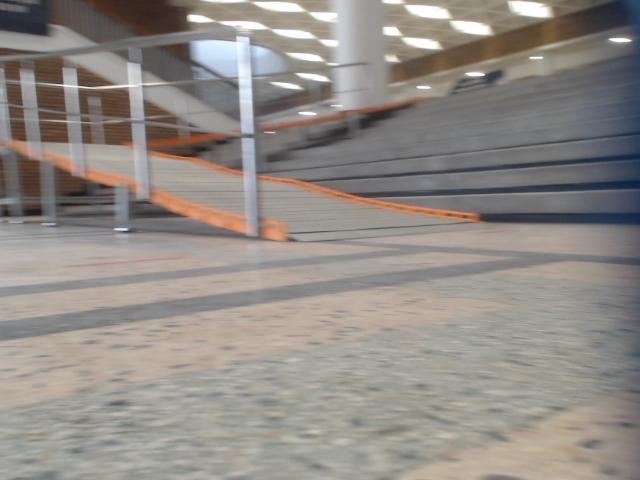rampUp: (260, 178, 476, 239), (149, 152, 245, 232), (85, 144, 134, 189), (39, 143, 70, 171)
ramps-railing: (0, 27, 259, 236), (20, 62, 55, 225), (62, 60, 85, 175), (131, 116, 148, 198), (106, 116, 204, 130), (129, 55, 142, 117), (142, 80, 221, 86), (205, 133, 241, 138), (81, 87, 123, 90), (124, 84, 131, 87)
